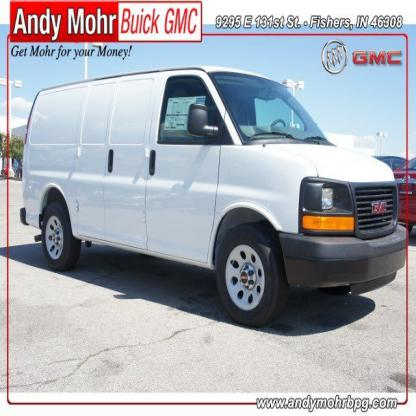Vehicle: (17, 68, 409, 325)
